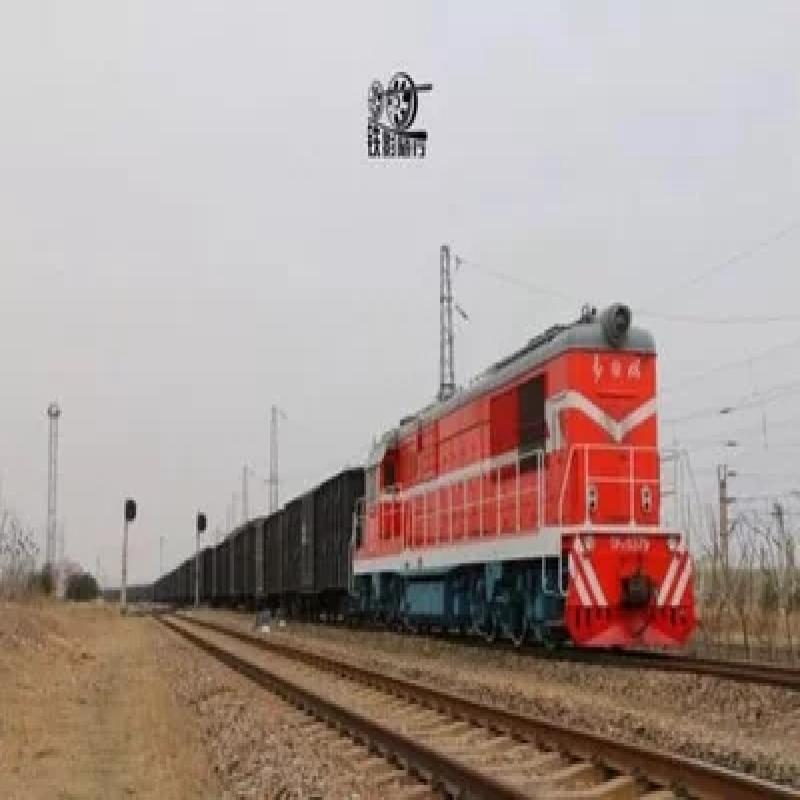train: (349, 286, 703, 660)
